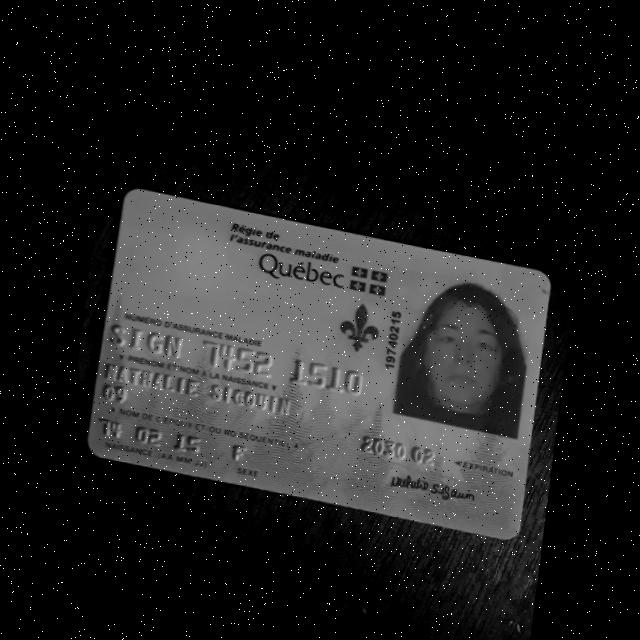card: (88, 190, 549, 538)
